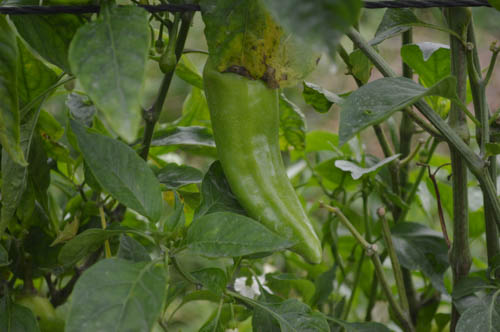ChiliPepper: (202, 61, 325, 264)
